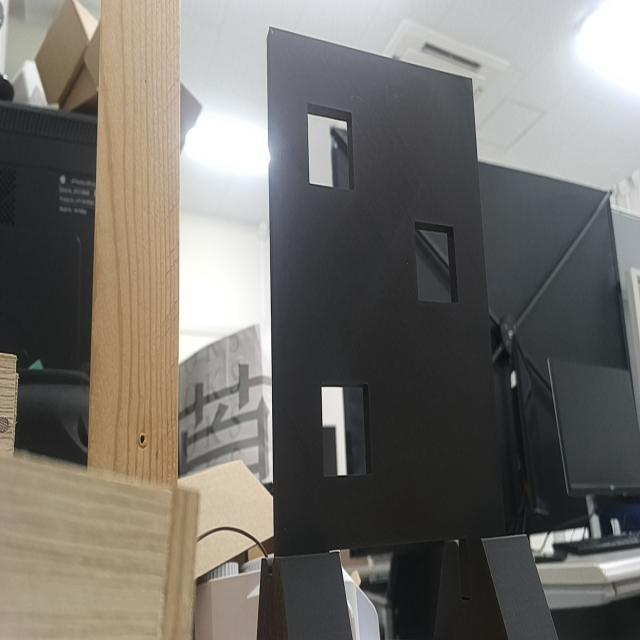Obstacle: (322, 385, 371, 477), (307, 102, 355, 188), (414, 222, 459, 304)
Wall: (271, 28, 500, 557)
